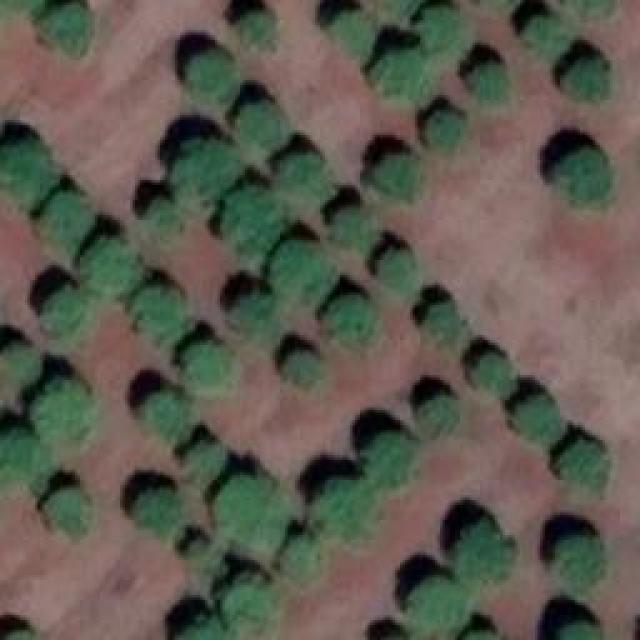Tree: (215, 475, 283, 545), (273, 240, 336, 303), (173, 137, 238, 195), (32, 378, 90, 441), (220, 183, 280, 243), (318, 477, 378, 535), (458, 520, 513, 583), (555, 145, 613, 200), (137, 390, 195, 443), (410, 575, 468, 628), (80, 238, 135, 293), (0, 142, 52, 197), (363, 430, 416, 483), (370, 50, 428, 95), (137, 288, 185, 338), (0, 432, 50, 480), (223, 578, 276, 621), (43, 193, 88, 243), (45, 3, 90, 53), (330, 293, 375, 343), (330, 10, 375, 58), (132, 488, 180, 533), (557, 538, 605, 583), (560, 437, 605, 485), (373, 153, 423, 196), (275, 153, 328, 193), (237, 100, 285, 143), (513, 395, 558, 440), (45, 488, 90, 533), (418, 5, 461, 48), (43, 288, 86, 331), (185, 345, 228, 388), (190, 53, 233, 93), (418, 393, 458, 436), (422, 300, 460, 343), (468, 350, 511, 388), (237, 290, 275, 333), (188, 440, 223, 485), (565, 60, 608, 95), (425, 110, 463, 148), (377, 247, 415, 285), (0, 340, 38, 378), (150, 197, 180, 245), (0, 0, 40, 35), (335, 205, 370, 243), (283, 350, 318, 385), (178, 620, 238, 640), (548, 620, 608, 640), (243, 10, 276, 45), (288, 535, 318, 573), (470, 63, 503, 96), (528, 15, 553, 43)
